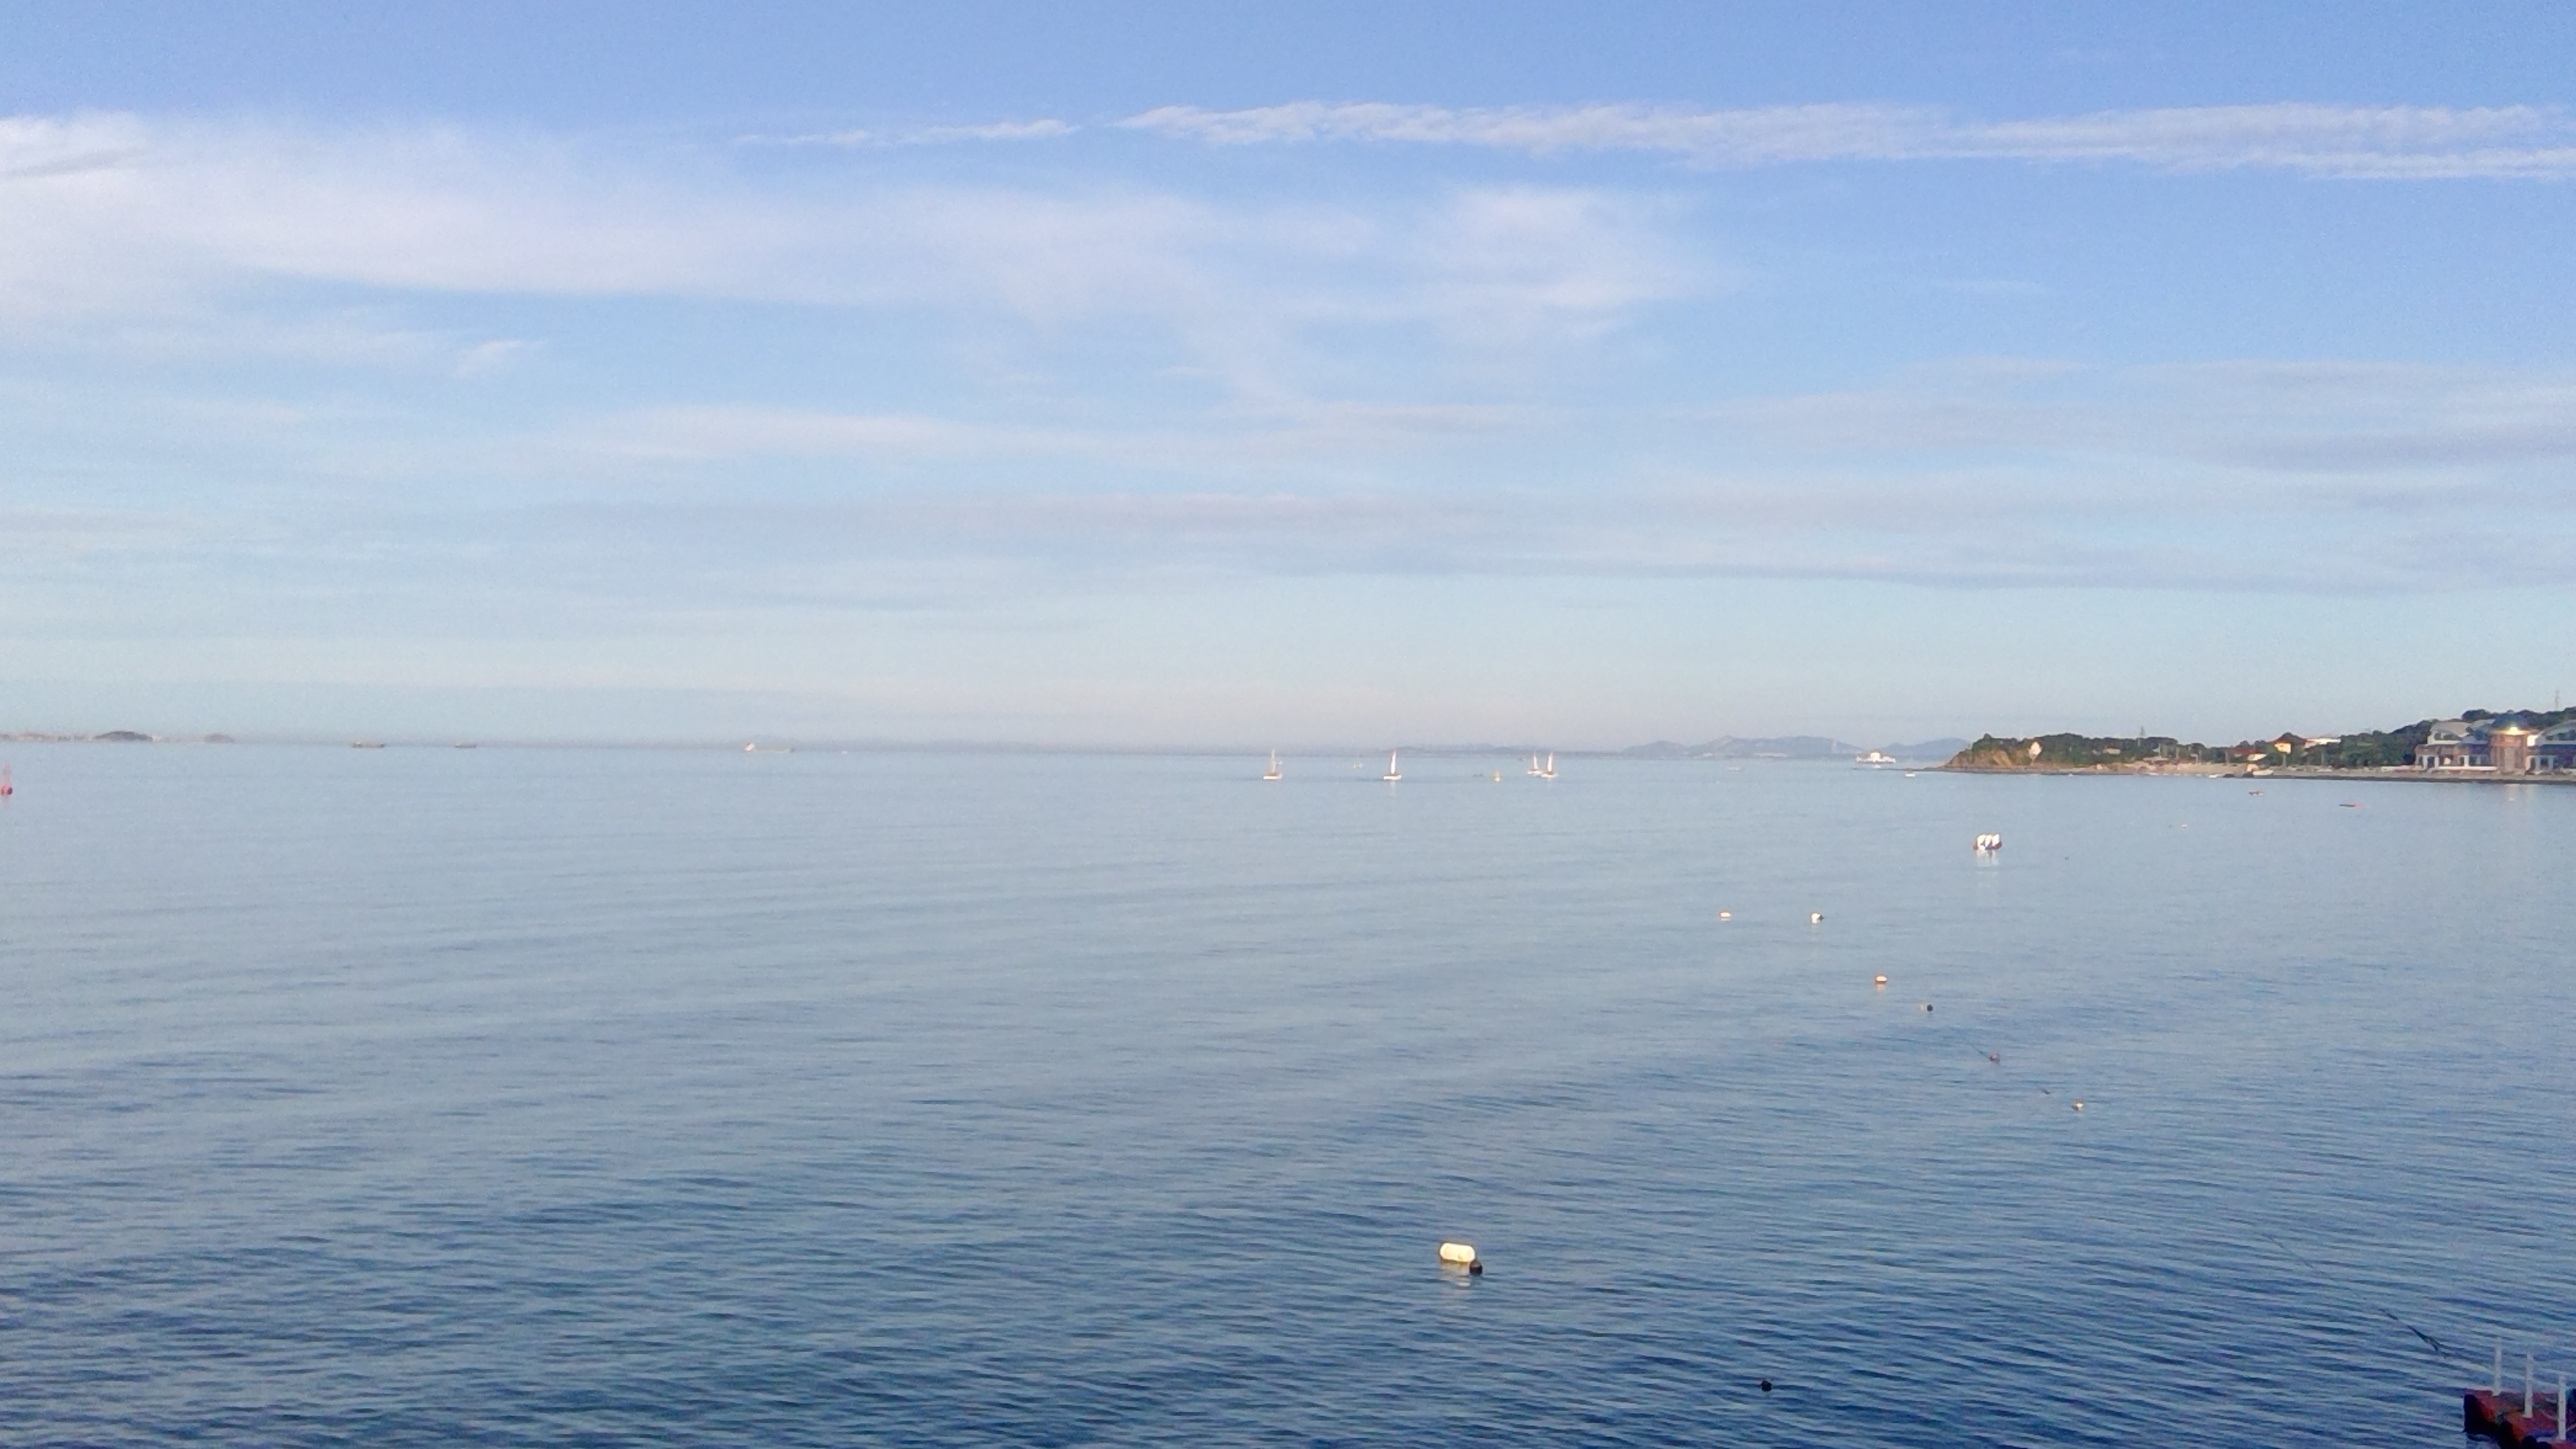buoy: (1511, 741, 1569, 787), (1247, 747, 1288, 782)
harbor: (1380, 745, 1412, 794)
rock: (1932, 709, 2240, 809)
rubbish: (1430, 1235, 1497, 1288), (1976, 814, 2013, 870)
